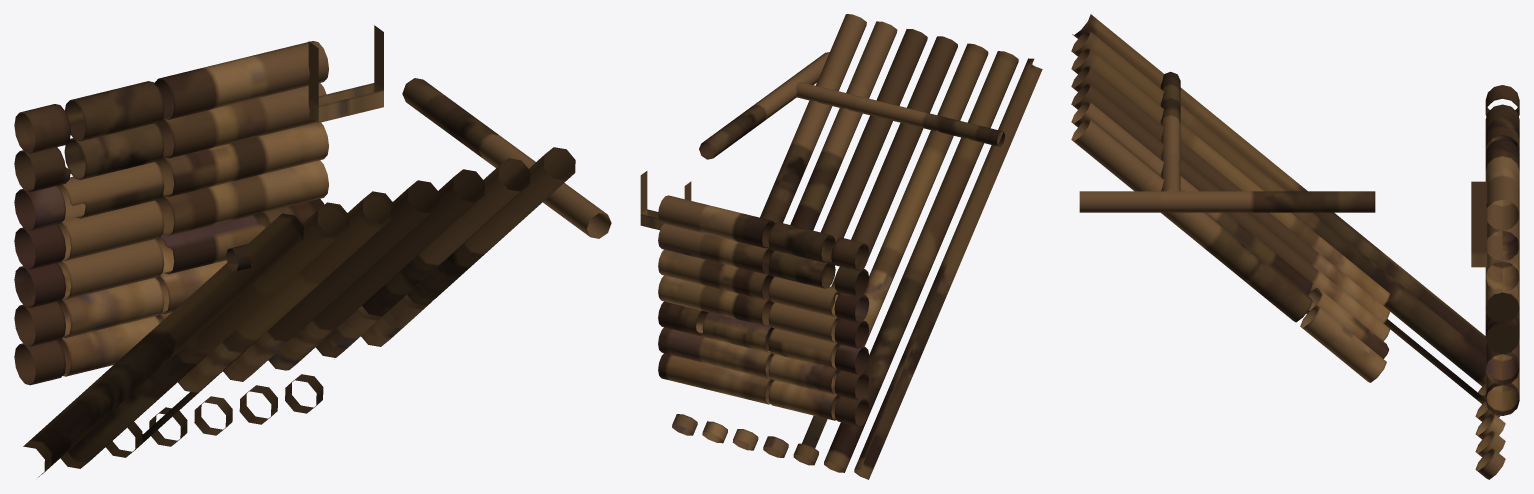
The model's file is section-3.obj.
3 renders of one model, left to right at view 1: azimuth 30°, elevation 25°; view 2: azimuth 150°, elevation 25°; view 3: azimuth 270°, elevation 25°, orthographic. The views are drawn at different scales.
Bounding box in the file's own units: 1.01 × 1.27 × 1.45.
